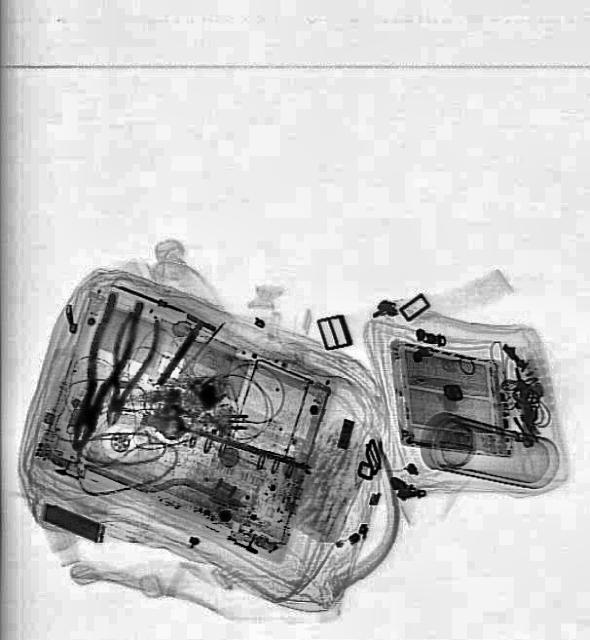Pliers: (54, 288, 146, 457), (90, 308, 164, 430)
